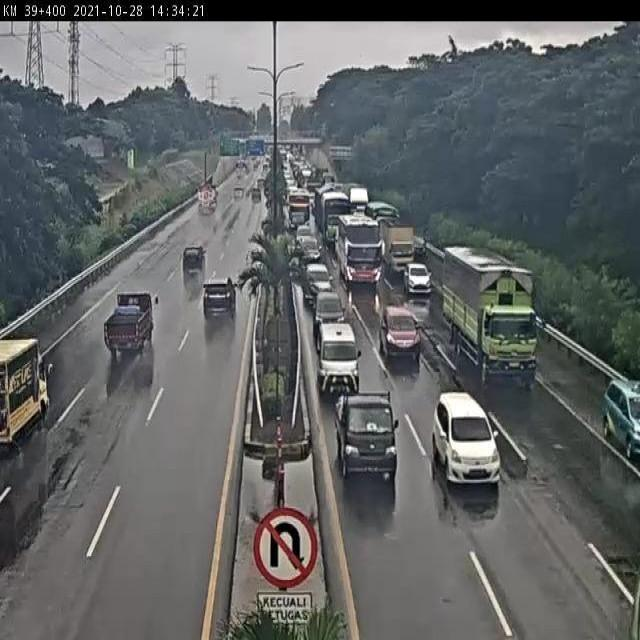big bus: (340, 215, 383, 284), (320, 190, 353, 242), (283, 195, 311, 236)
car: (433, 392, 506, 489), (329, 384, 397, 487), (314, 318, 361, 394), (603, 378, 640, 458), (375, 300, 419, 357), (201, 278, 236, 314), (316, 287, 343, 332), (403, 260, 432, 299), (305, 260, 332, 301), (183, 244, 207, 273), (297, 238, 318, 266), (292, 220, 309, 240)
small truck: (0, 336, 52, 453), (106, 290, 160, 362), (377, 214, 417, 278)
truck-l-: (438, 246, 540, 382)
